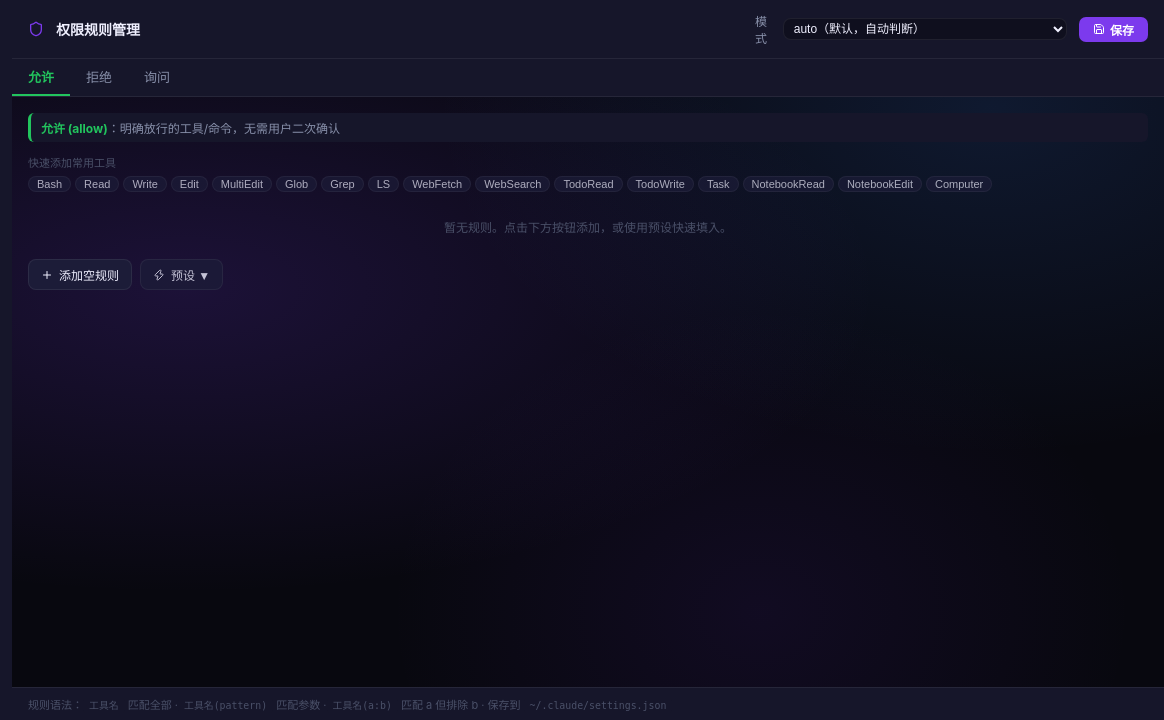
Scenario: RulesPanel - 规则添加 › 点击"添加空规则"按钮可添加新规则
Click the button "添加空规则": (80, 274) [28,259,132,290]
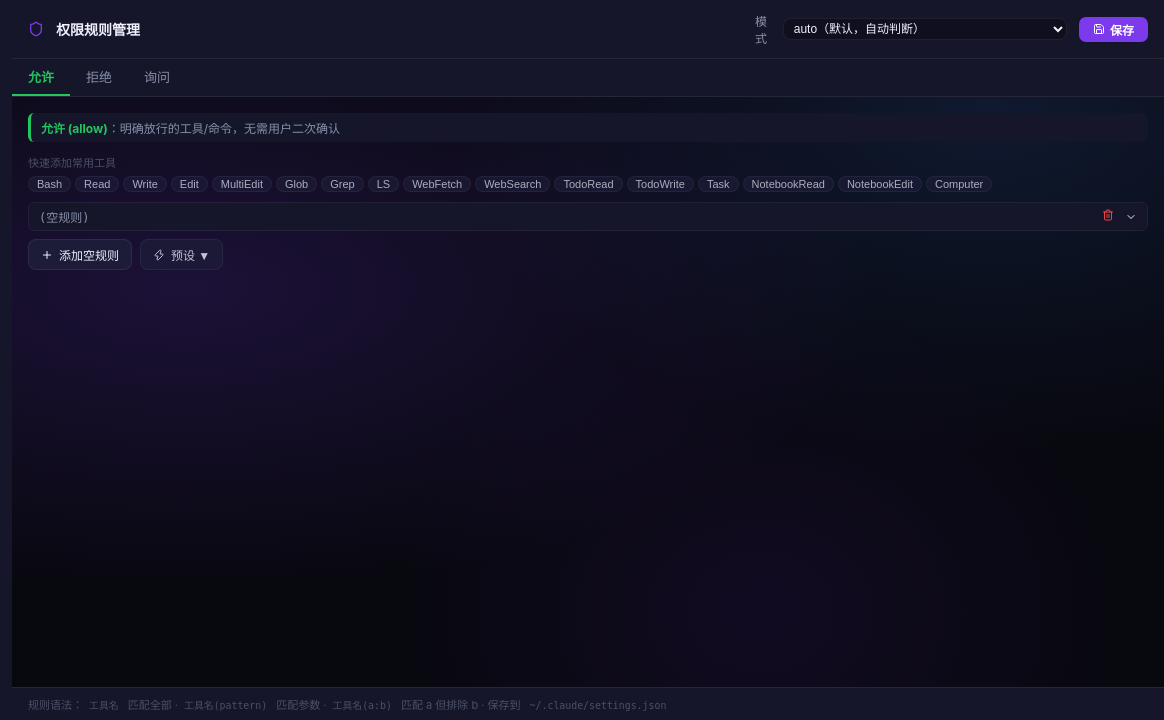
Expected: the text "(空规则)" is shown, [39,211,90,225]
